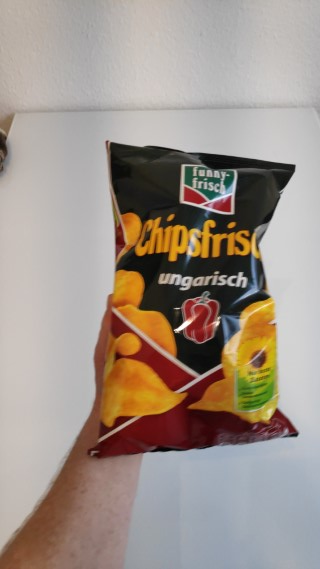chipsfrisch: (87, 139, 299, 458)
